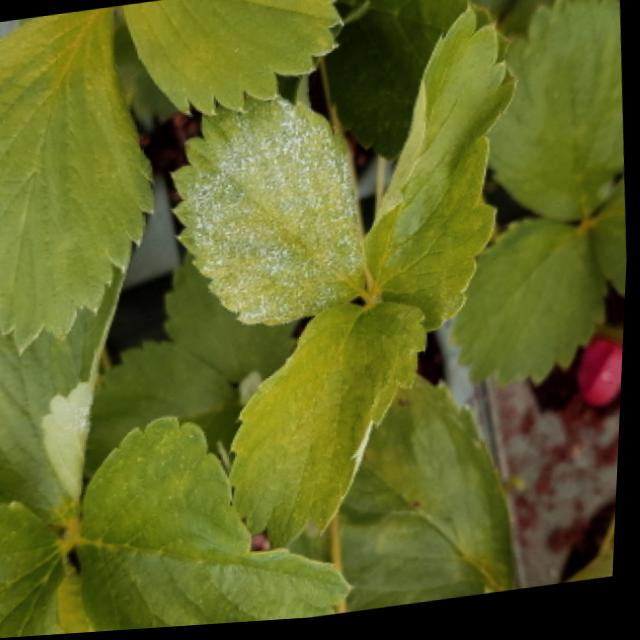Powdery Mildew Leaf: (82, 416, 356, 634), (230, 304, 430, 555), (173, 95, 371, 331), (0, 265, 128, 530)
